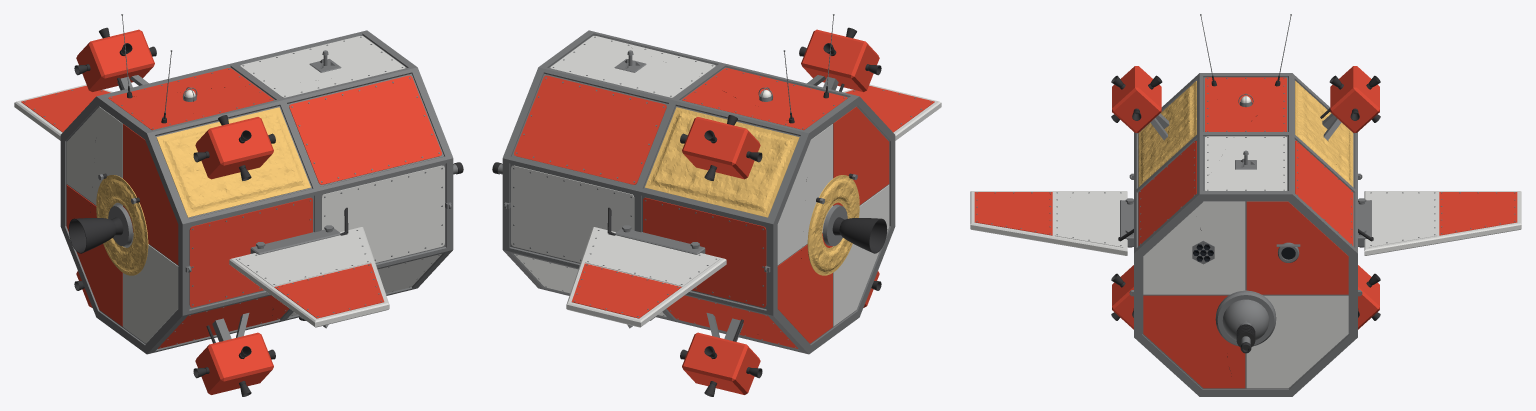
The model's file is drone_debris.fbx.
3 views of the same model, side by side, from view 1: azimuth 30°, elevation 25°; view 2: azimuth 150°, elevation 25°; view 3: azimuth 270°, elevation 25° (orthographic). The views are drawn at different scales.
Parts seen in each view (by area): view 1: Debris_02, Debris_08, Debris_04, Debris_06, Debris_01, Debris_10, Debris_05, Debris_07, Debris_09; view 2: Debris_01, Debris_08, Debris_07, Debris_09, Debris_06, Debris_05, Debris_12, Debris_02, Debris_10, Debris_04, Debris_03; view 3: Debris_01, Debris_02, Debris_04, Debris_09, Debris_03, Debris_06, Debris_12, Debris_10, Debris_08, Debris_07, Debris_05.
Part boxes in pixels (x1,y1,x2,y2): Debris_02: (176, 71, 453, 327); Debris_08: (68, 172, 306, 396); Debris_04: (245, 212, 453, 328); Debris_06: (94, 50, 245, 212); Debris_01: (166, 30, 463, 174); Debris_10: (74, 27, 156, 91); Debris_05: (60, 79, 175, 171); Debris_07: (60, 161, 94, 307); Debris_09: (14, 84, 113, 140); Debris_01: (492, 30, 759, 258); Debris_08: (722, 108, 933, 354); Debris_07: (659, 213, 805, 396); Debris_09: (566, 207, 726, 327); Debris_06: (760, 14, 887, 212); Debris_05: (650, 107, 810, 251); Debris_12: (645, 107, 799, 217); Debris_02: (605, 27, 941, 107); Debris_10: (680, 115, 762, 180); Debris_04: (842, 85, 940, 128); Debris_03: (507, 255, 660, 328); Debris_01: (1193, 102, 1362, 353); Debris_02: (970, 67, 1263, 326); Debris_04: (971, 191, 1234, 396); Debris_09: (1358, 191, 1521, 255); Debris_03: (1219, 327, 1348, 396); Debris_06: (1112, 14, 1289, 159); Debris_12: (1295, 81, 1353, 186); Debris_10: (1320, 66, 1380, 140); Debris_08: (993, 124, 1148, 329); Debris_07: (1358, 173, 1380, 329); Debris_05: (1264, 73, 1357, 182).
Size of the model in its own units: 2.57 by 2.1 by 3.5.
